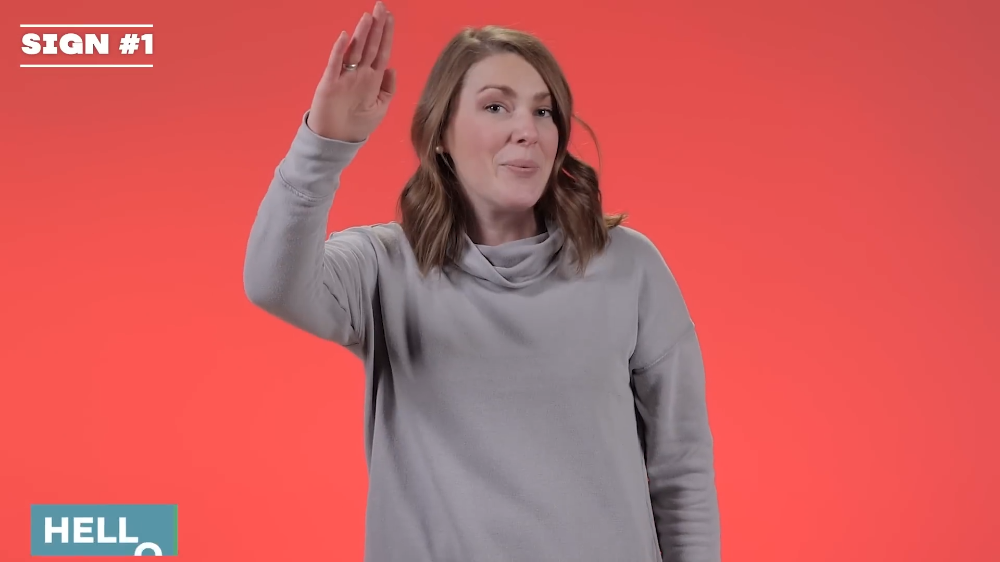hello: (311, 1, 400, 143)
